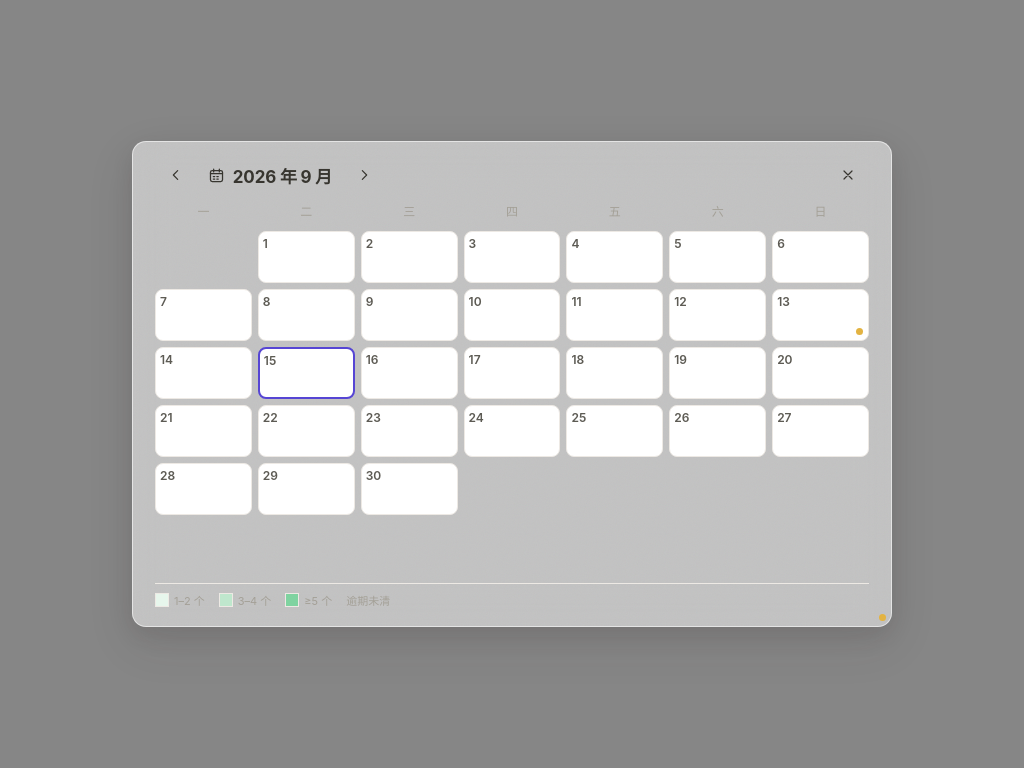
Test case: CalendarOverlay 月视图 › 选中之后的日子：显示"这天还没有可复习的项"，无开始复习按钮
Click the button "18" at (615, 373), box [566, 347, 663, 399]
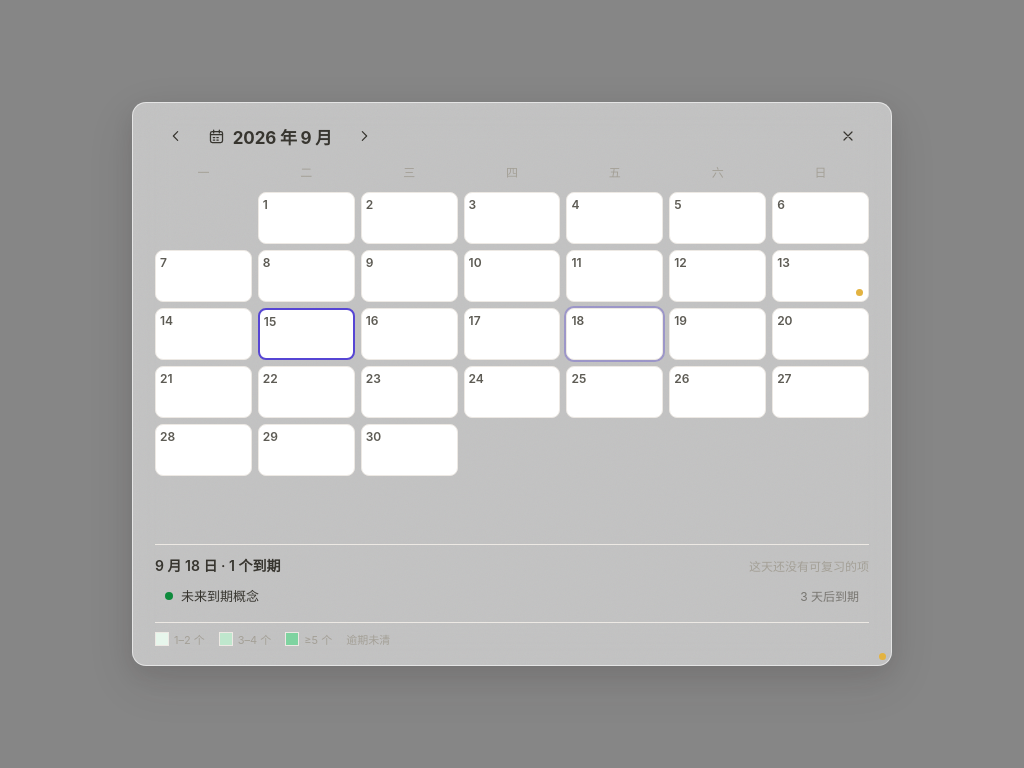
Now the text "这天还没有可复习的项" is shown, box [749, 556, 869, 574]
